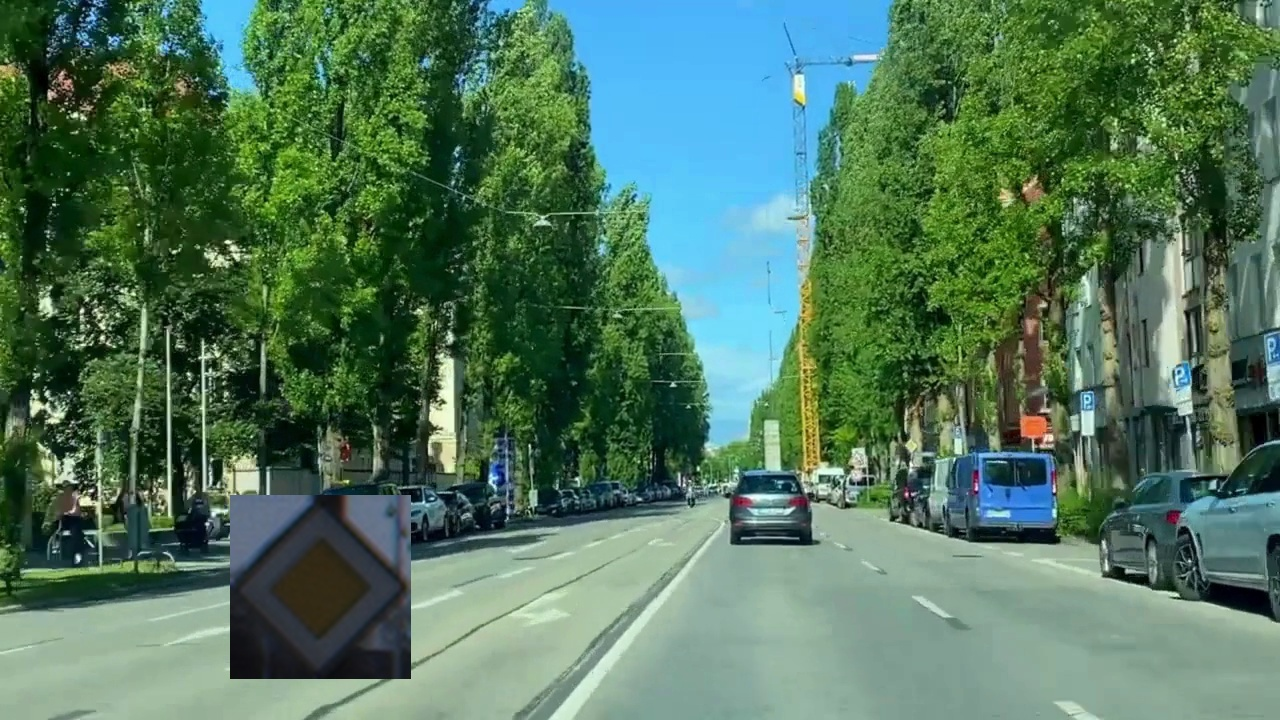Priority road: (230, 495, 411, 679)
